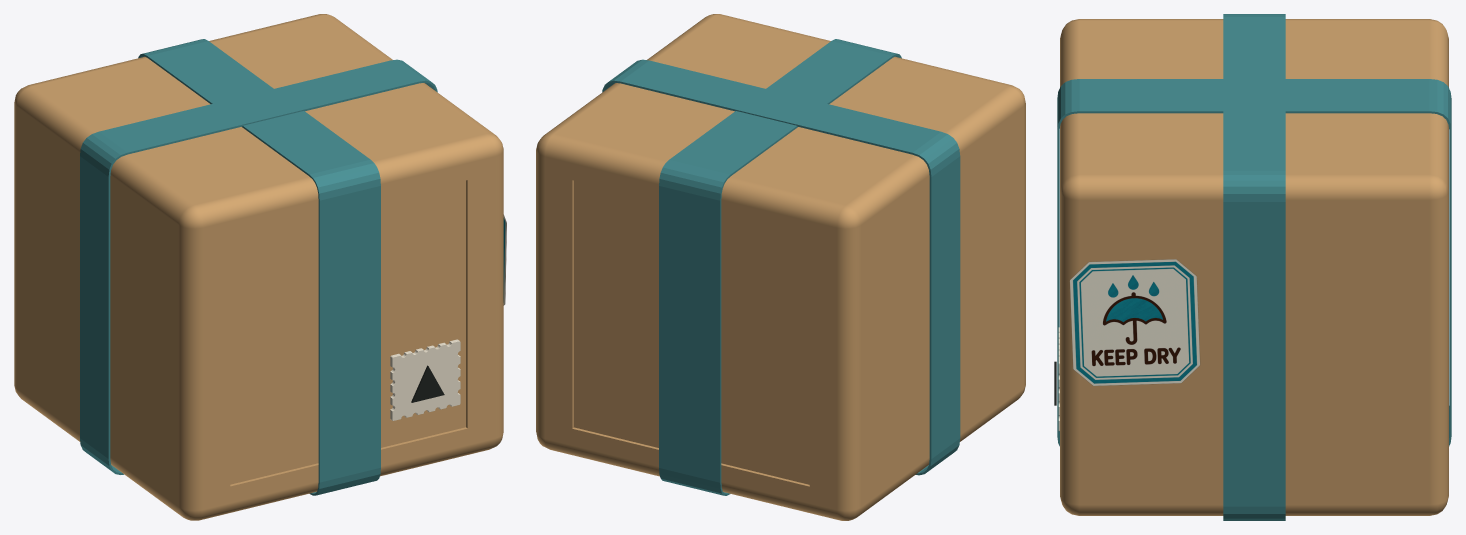
The model's file is editor-source.glb.
The picture shows the model from 3 angles, left to right: view 1: azimuth 30°, elevation 25°; view 2: azimuth 150°, elevation 25°; view 3: azimuth 270°, elevation 25°; orthographic projection. The views are drawn at different scales.
Visible parts, largest first — view 1: Parcel_Carton, Parcel_Tape_Continuous_Front_Back, Parcel_Tape_Continuous_Left_Right, Parcel_Paper_Label, Parcel_Label_Triangle; view 2: Parcel_Carton, Parcel_Tape_Continuous_Front_Back, Parcel_Tape_Continuous_Left_Right; view 3: Parcel_Carton, Parcel_Tape_Continuous_Left_Right, Parcel_Care_D3_Artwork, Parcel_Tape_Continuous_Front_Back.
Boxes of the visible parts, bbox=[...] form: Parcel_Carton: bbox=[14, 14, 503, 520]; Parcel_Tape_Continuous_Front_Back: bbox=[138, 39, 380, 495]; Parcel_Tape_Continuous_Left_Right: bbox=[80, 59, 437, 474]; Parcel_Paper_Label: bbox=[390, 339, 460, 420]; Parcel_Label_Triangle: bbox=[411, 365, 444, 402]; Parcel_Carton: bbox=[536, 14, 1025, 520]; Parcel_Tape_Continuous_Front_Back: bbox=[659, 39, 901, 495]; Parcel_Tape_Continuous_Left_Right: bbox=[602, 59, 960, 475]; Parcel_Carton: bbox=[1060, 19, 1448, 515]; Parcel_Tape_Continuous_Left_Right: bbox=[1223, 14, 1285, 520]; Parcel_Care_D3_Artwork: bbox=[1069, 259, 1200, 386]; Parcel_Tape_Continuous_Front_Back: bbox=[1057, 79, 1451, 446].
Bounding box in the file's own units: 0.148 × 0.138 × 0.1431.
Materials: 12 (1 with a texture image).
